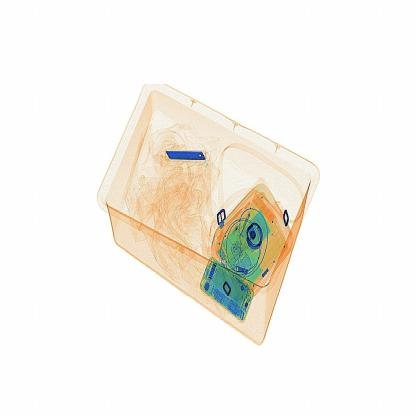pliers: (161, 137, 214, 179)
